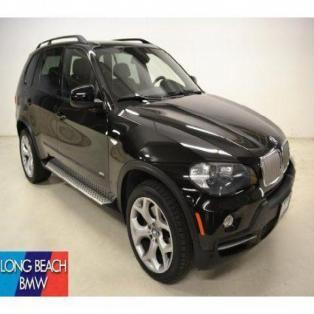Auto: (13, 36, 296, 286)
